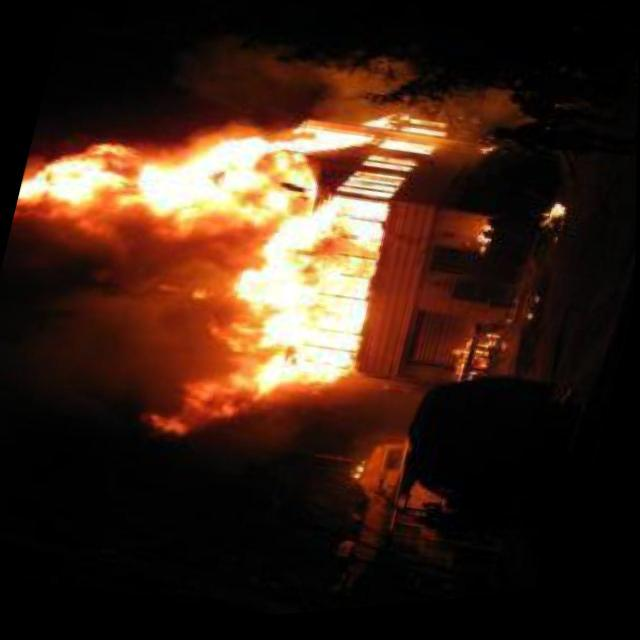fire: (0, 55, 418, 453), (446, 330, 514, 400), (534, 202, 578, 244), (461, 224, 502, 268), (344, 454, 380, 494)
